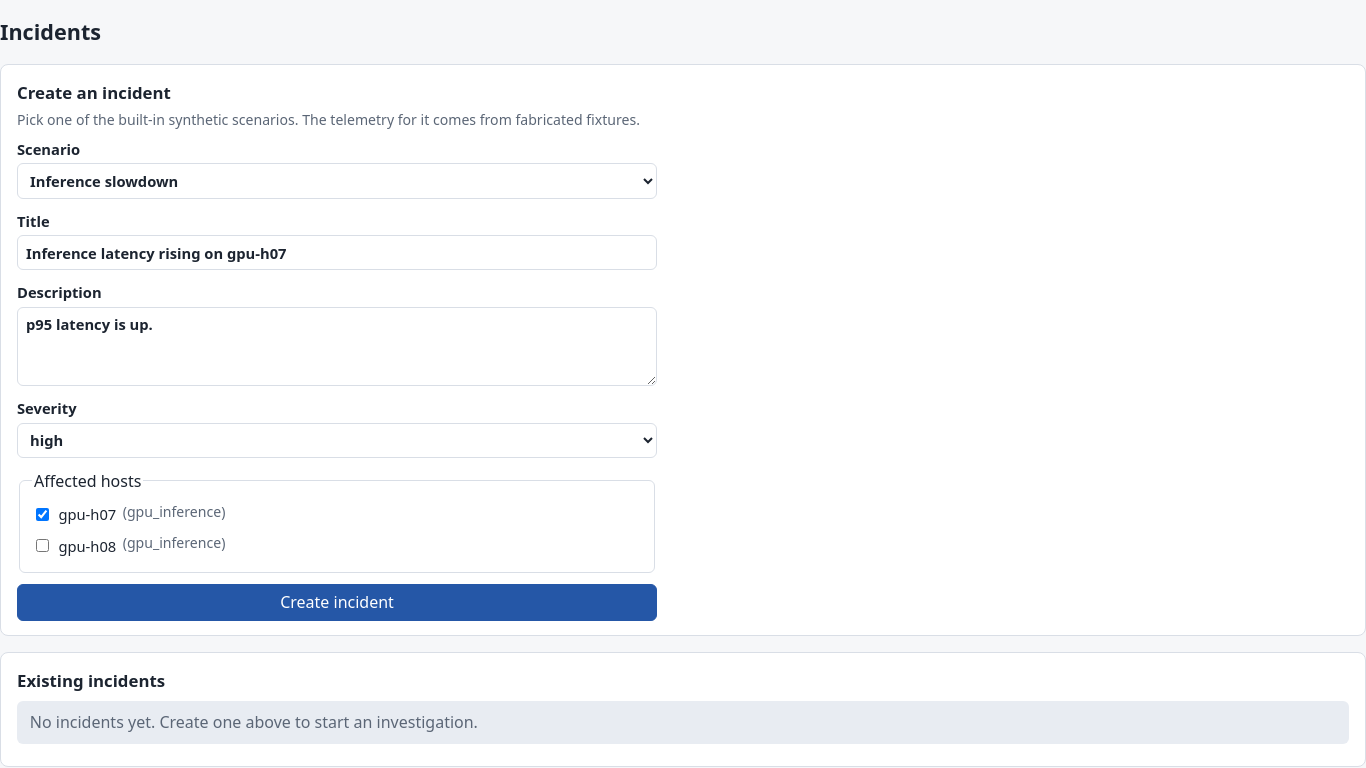
Test: IncidentsPage › shows the backend validation errors next to the form and stays on the page
Expected: the field labelled "Title" is shown, [17, 235, 657, 270]
Click the button "Create incident" at (337, 602), box [17, 584, 657, 621]
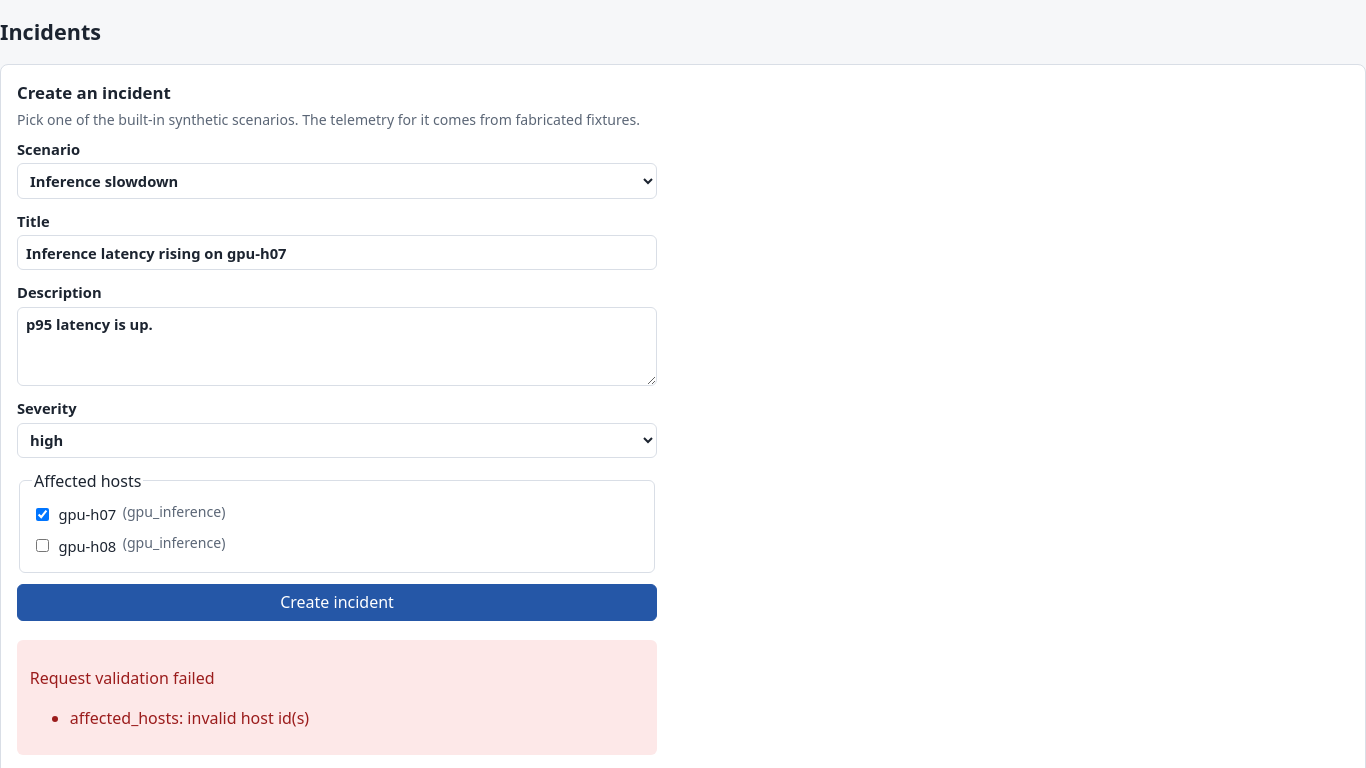
Expected: the message shows "affected_hosts: invalid host id", [17, 640, 657, 755]
